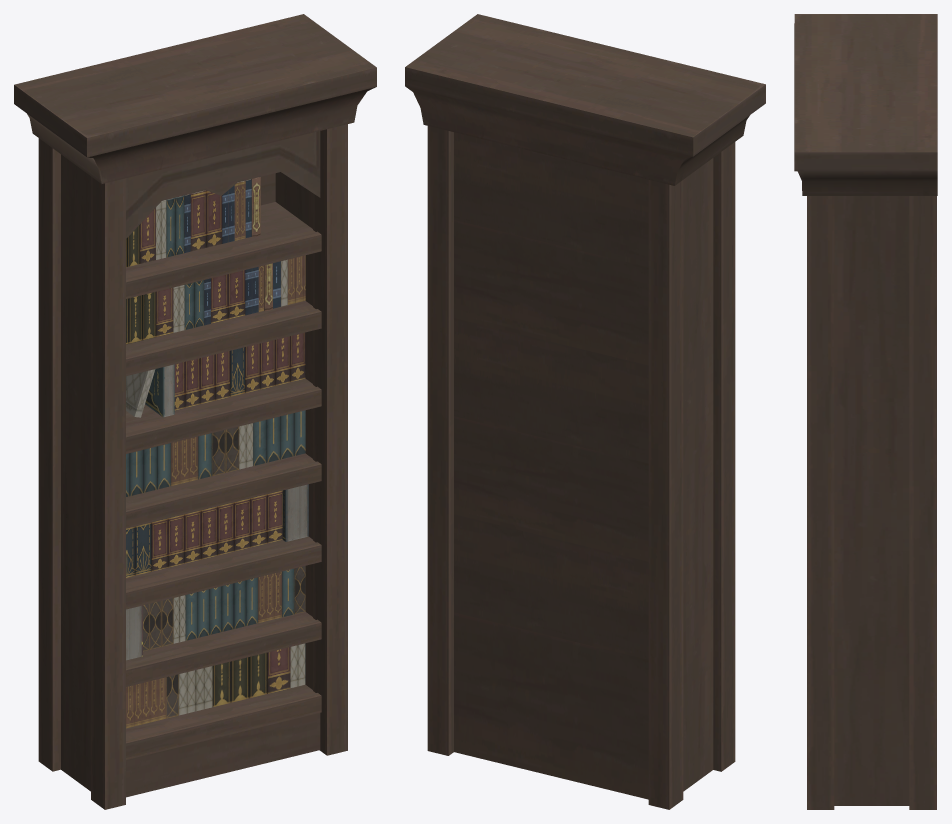
File: Homeworld_Interior_Xm_Cabinet_Prop_Shuguismall_01_Vo.fbx
3 renders of one model, left to right at view 1: azimuth 30°, elevation 25°; view 2: azimuth 150°, elevation 25°; view 3: azimuth 270°, elevation 25°, orthographic. The views are drawn at different scales.
Parts seen in each view (by area): view 1: Homeworld_Interior_Xm_Cabinet_Prop_Shuguismall_01_Vo; view 2: Homeworld_Interior_Xm_Cabinet_Prop_Shuguismall_01_Vo; view 3: Homeworld_Interior_Xm_Cabinet_Prop_Shuguismall_01_Vo.
Boxes of the visible parts, bbox=[...] form: Homeworld_Interior_Xm_Cabinet_Prop_Shuguismall_01_Vo: bbox=[14, 14, 376, 809]; Homeworld_Interior_Xm_Cabinet_Prop_Shuguismall_01_Vo: bbox=[405, 14, 765, 809]; Homeworld_Interior_Xm_Cabinet_Prop_Shuguismall_01_Vo: bbox=[794, 14, 937, 809].
Size of the model in its own units: 1.44 by 3.25 by 0.631.
